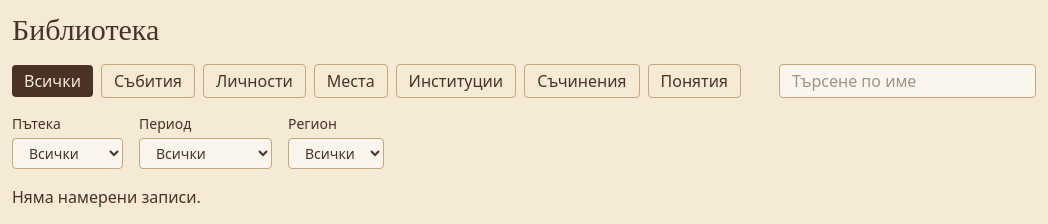
library passes track, period and region filters to the API
Select "Просвета" in the dropdown labelled "Пътека" at coordinates (68, 154), box [12,138,123,169]
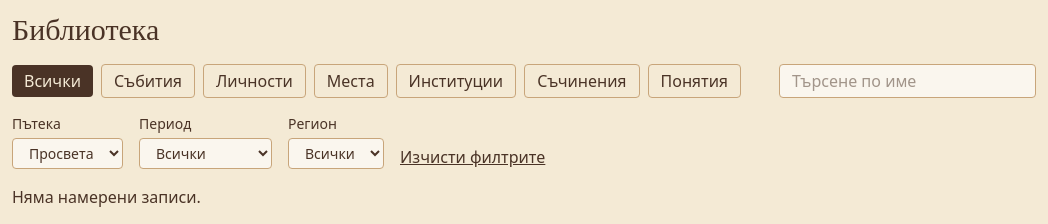
Now the button "Изчисти филтрите" is shown, box [400,145,545,169]
